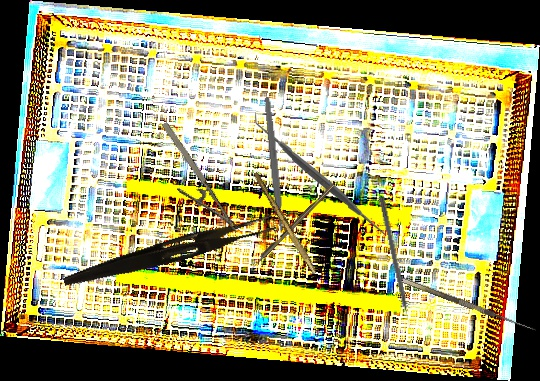Dressing Forceps: (61, 206, 277, 298)
Hook Surgical: (401, 270, 540, 334), (247, 183, 336, 272)
Needle Holder: (143, 119, 240, 247)
Pusher: (377, 196, 413, 331)
Scalpel Handle: (251, 171, 320, 275), (263, 96, 285, 232)
Spatula Surgical: (252, 111, 388, 245)
